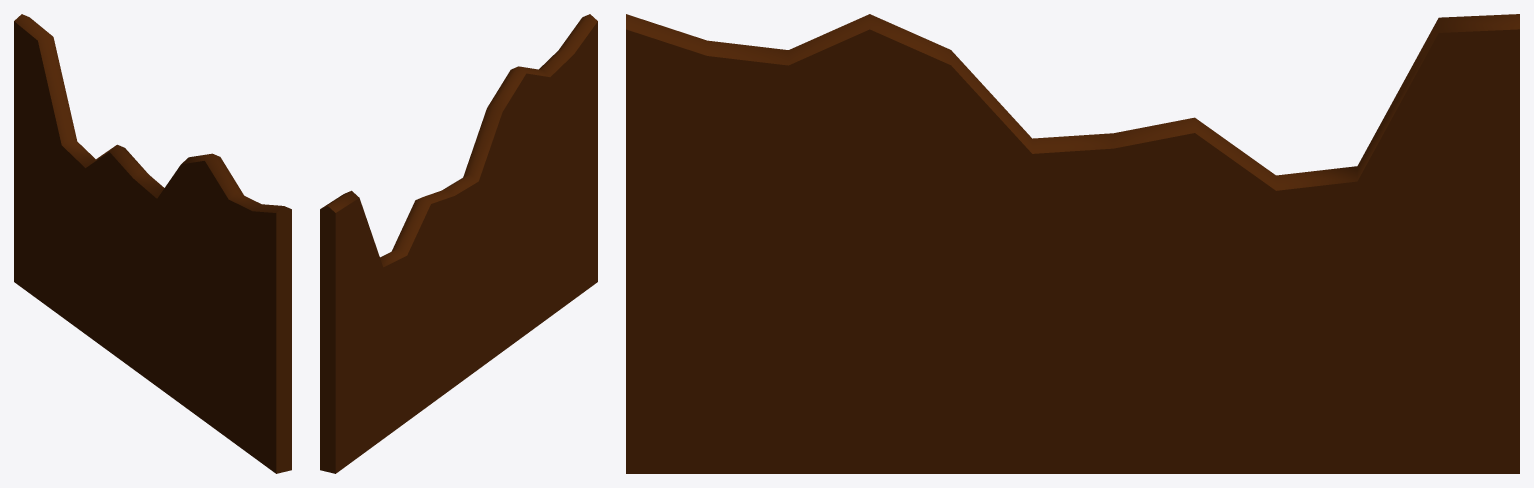
Rendered from Prop_WallBroken.FBX.
3 views of the same model, side by side, from view 1: azimuth 30°, elevation 25°; view 2: azimuth 150°, elevation 25°; view 3: azimuth 270°, elevation 25° (orthographic). The views are drawn at different scales.
Visible parts, largest first — view 1: WallBroken; view 2: WallBroken; view 3: WallBroken.
Part boxes in pixels (x1,y1,x2,y2): WallBroken: (14, 14, 291, 473); WallBroken: (320, 14, 597, 473); WallBroken: (626, 14, 1519, 473).
Size of the model in its own units: 24.72 by 401 by 717.
